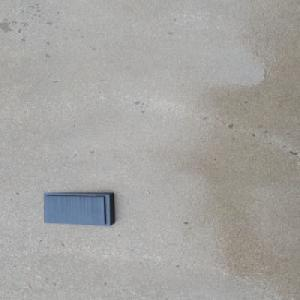PlasticPart: (42, 191, 117, 226)
